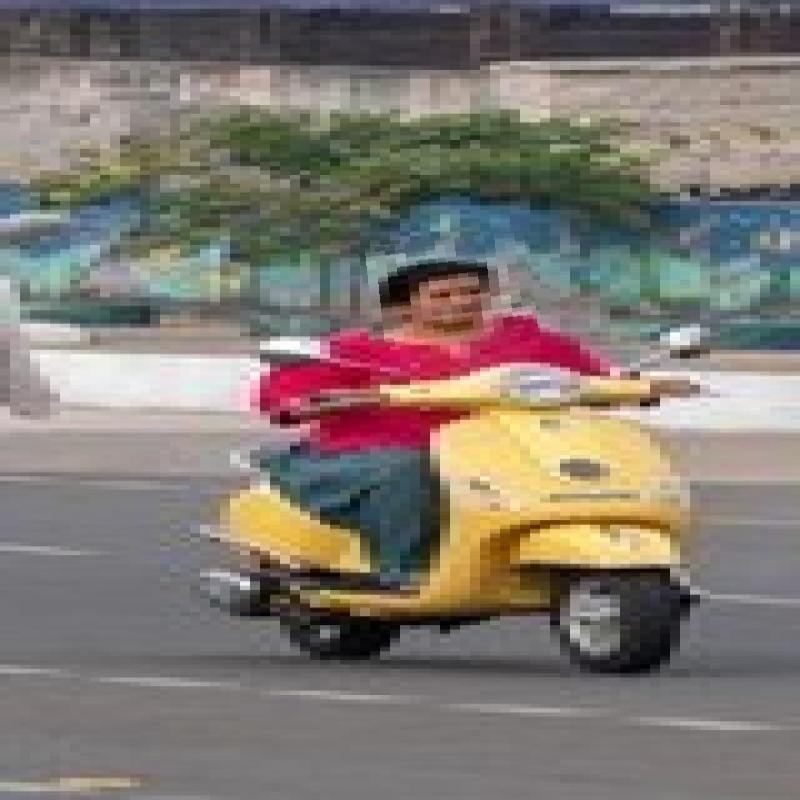nohelmet: (362, 234, 536, 346)
